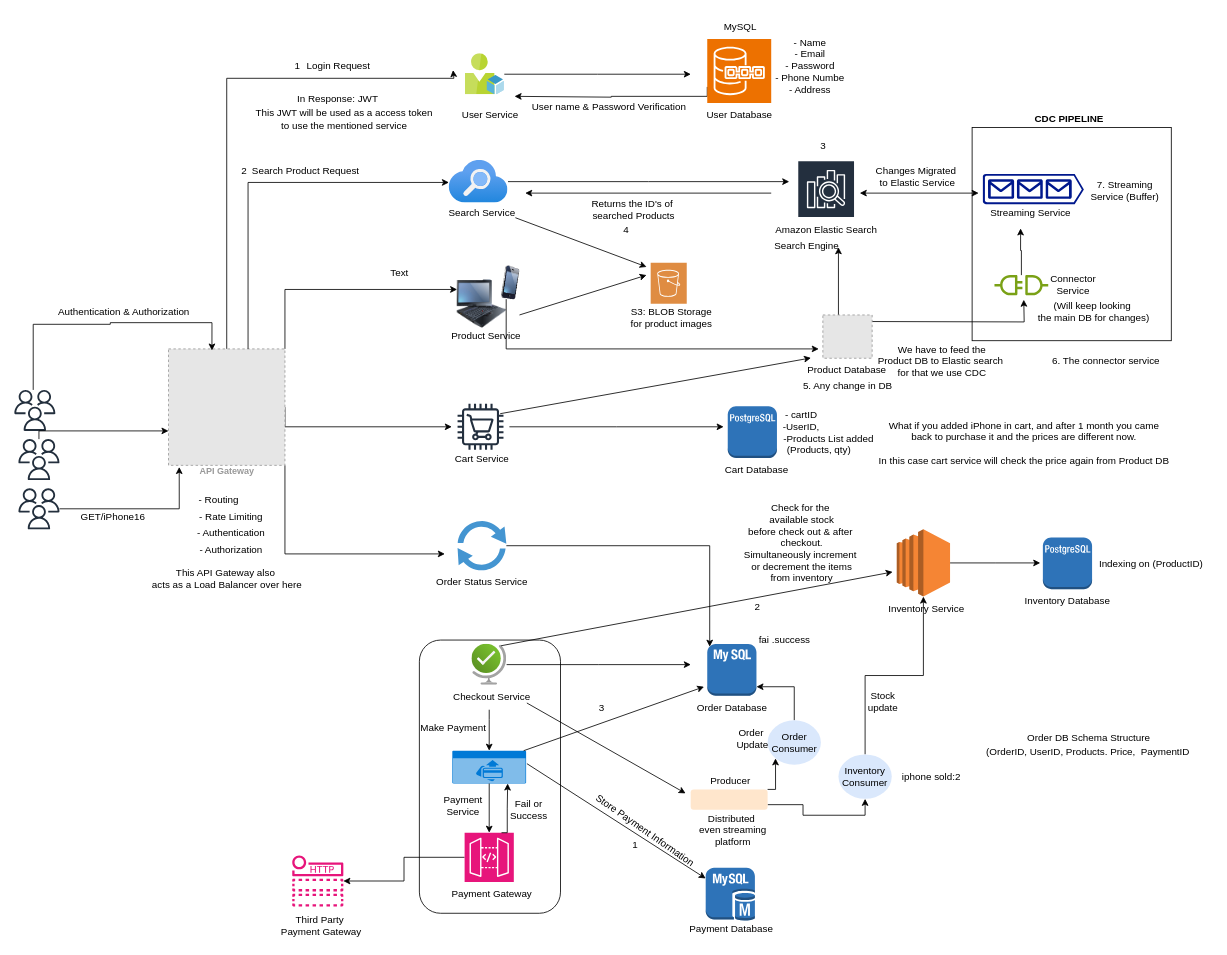
This 1227x955 diagram has some shape labels left out. Grey dashed boxes stand in for pictures. Each missing label, with the box of its shape:
KAFKA: (690, 789, 767, 809)
Payment: (452, 750, 526, 783)
